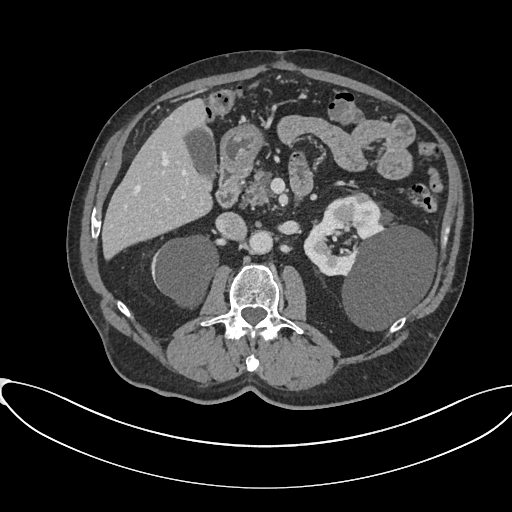Lesion: (354, 189, 372, 204)
